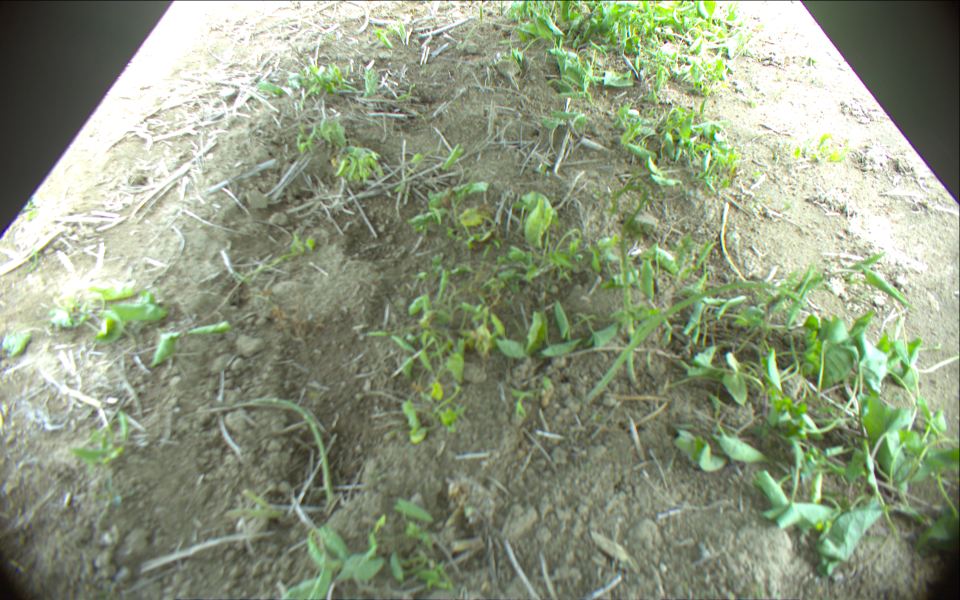aspa: (585, 278, 806, 402), (229, 397, 334, 503), (618, 189, 649, 385)
